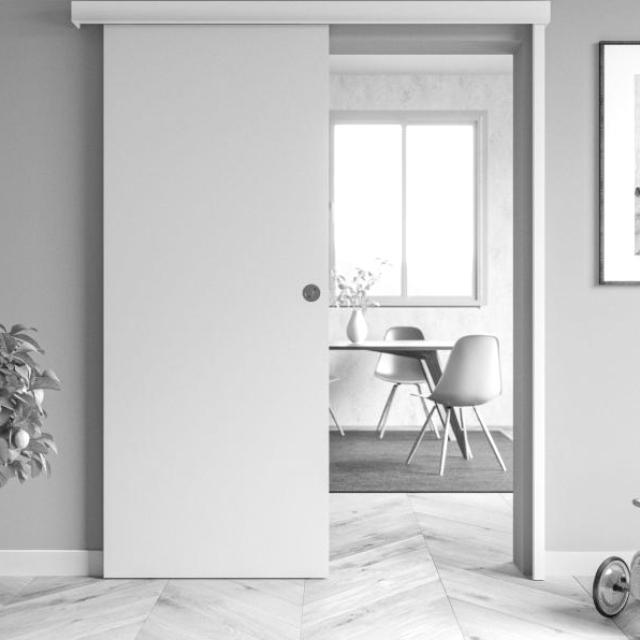door: (101, 23, 331, 579)
